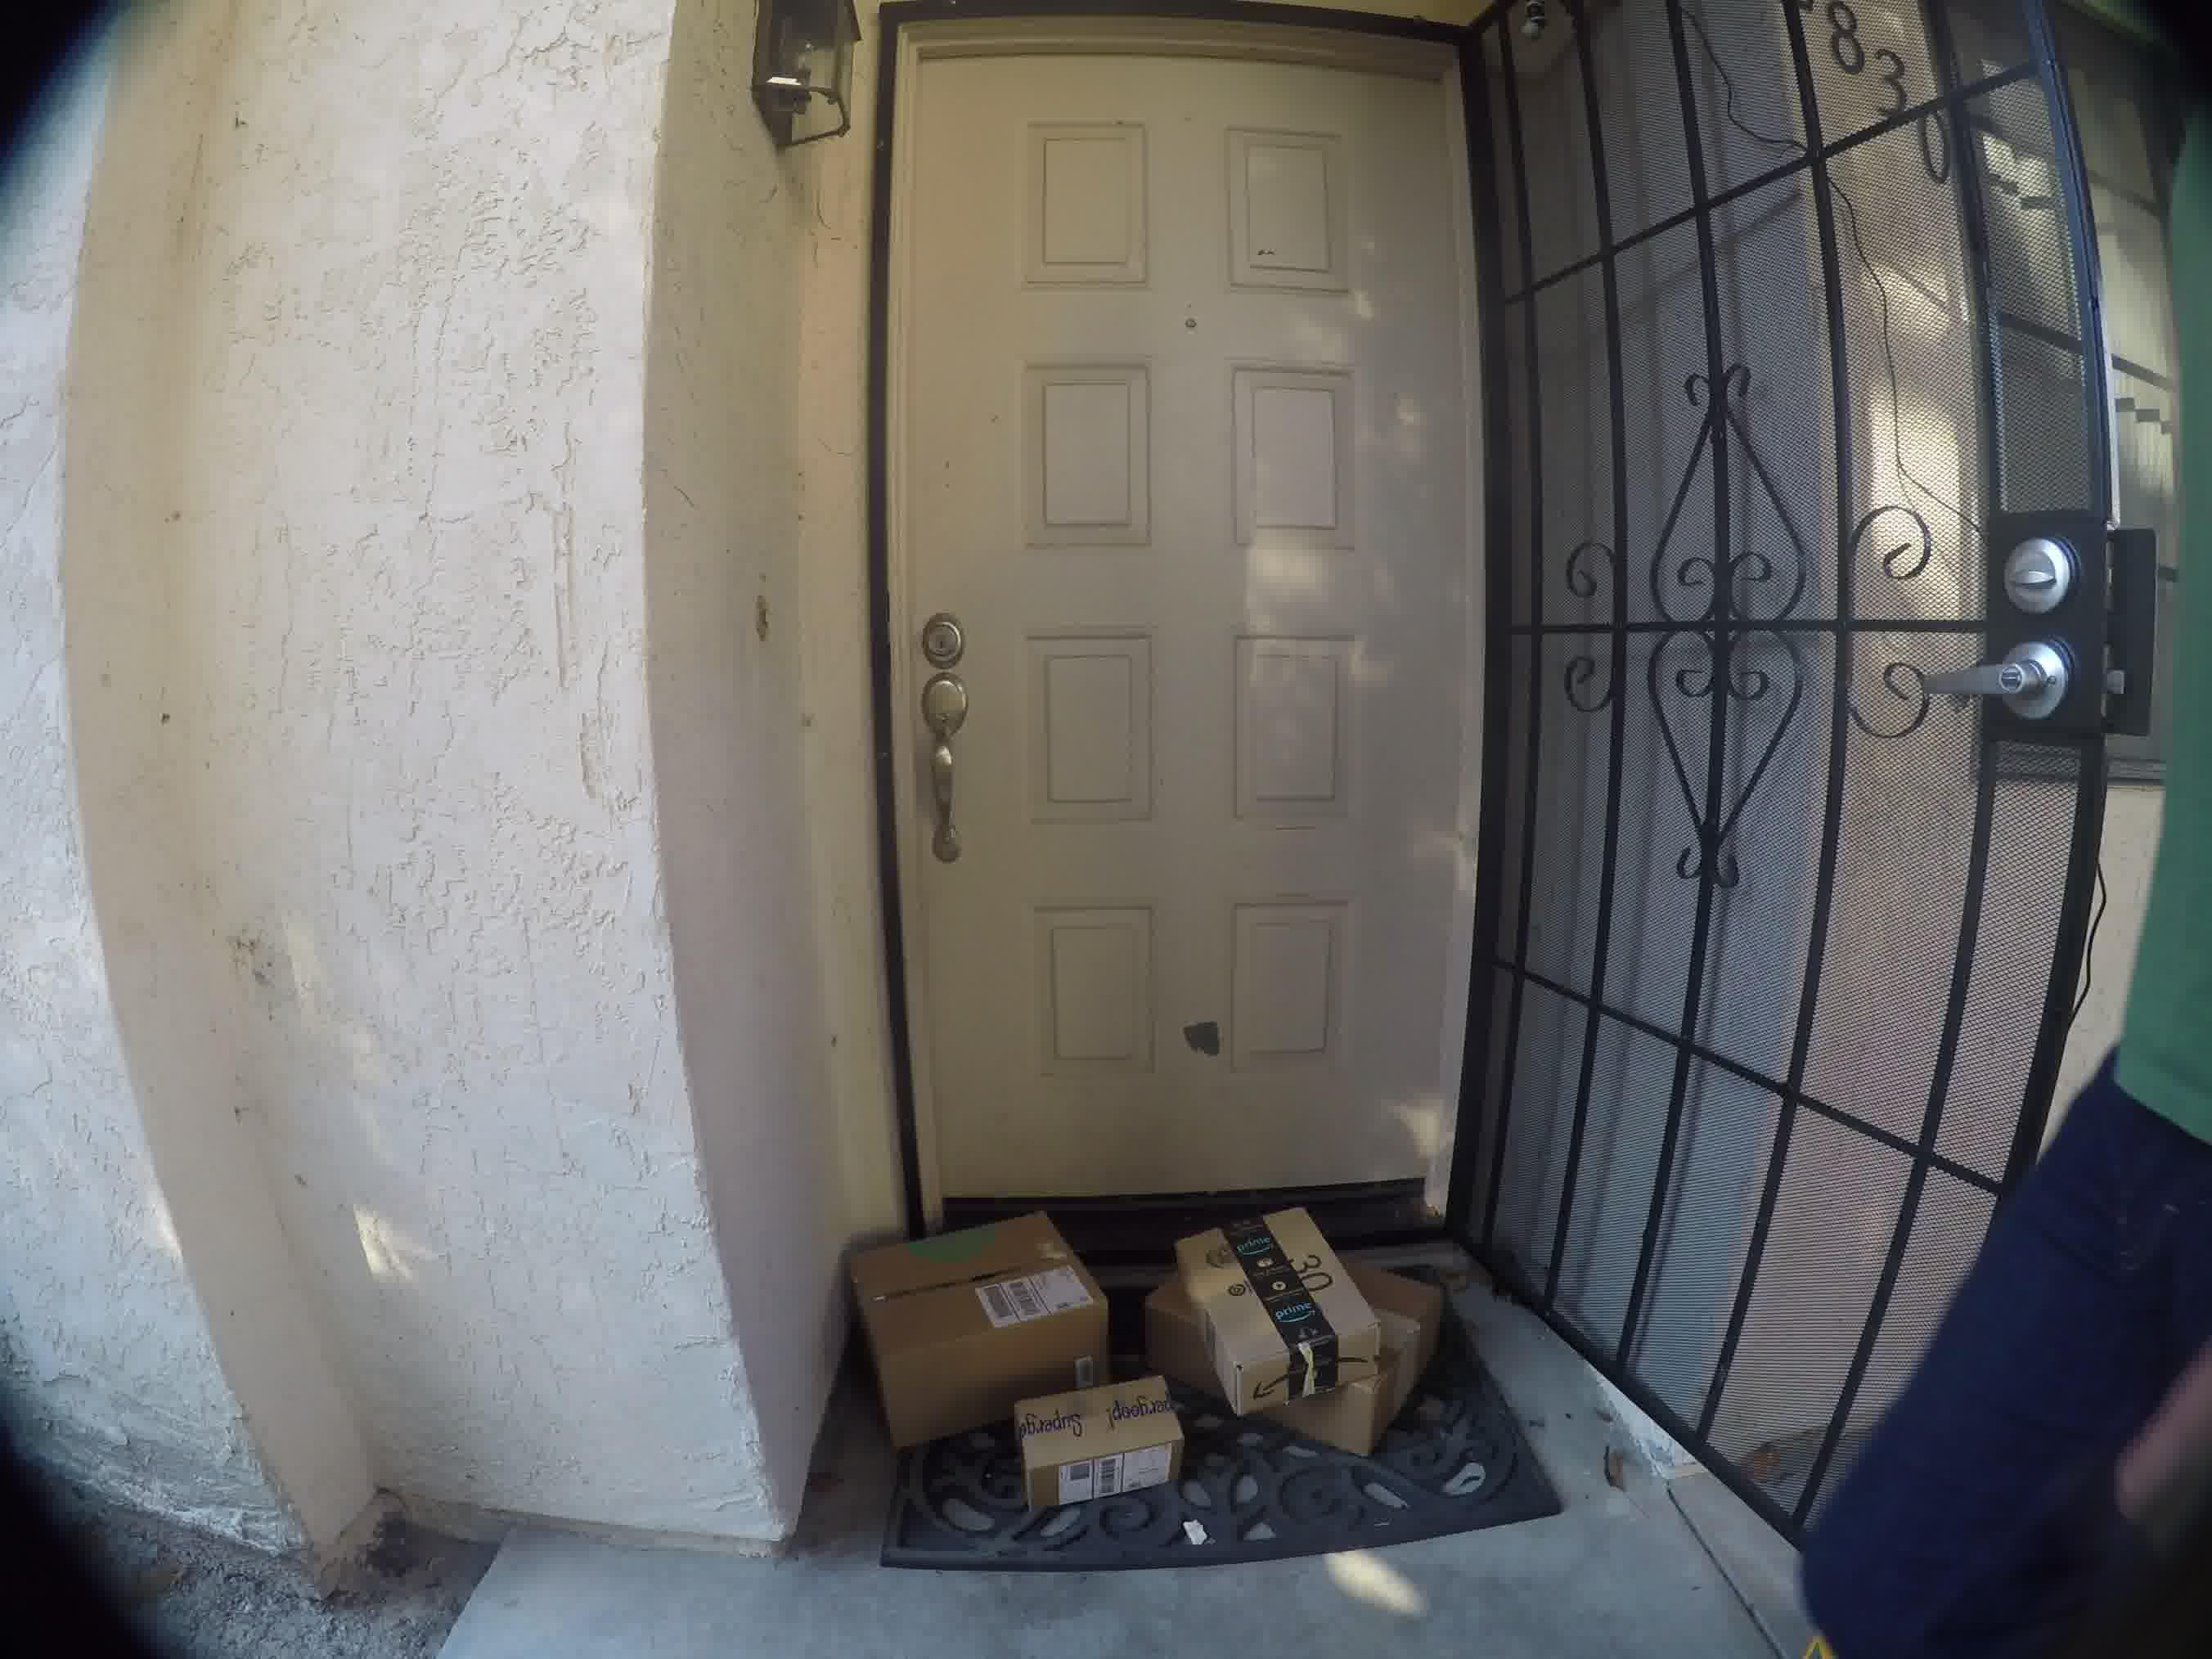box: (831, 1197, 1109, 1399), (1170, 1188, 1378, 1405), (998, 1408, 1216, 1490)
